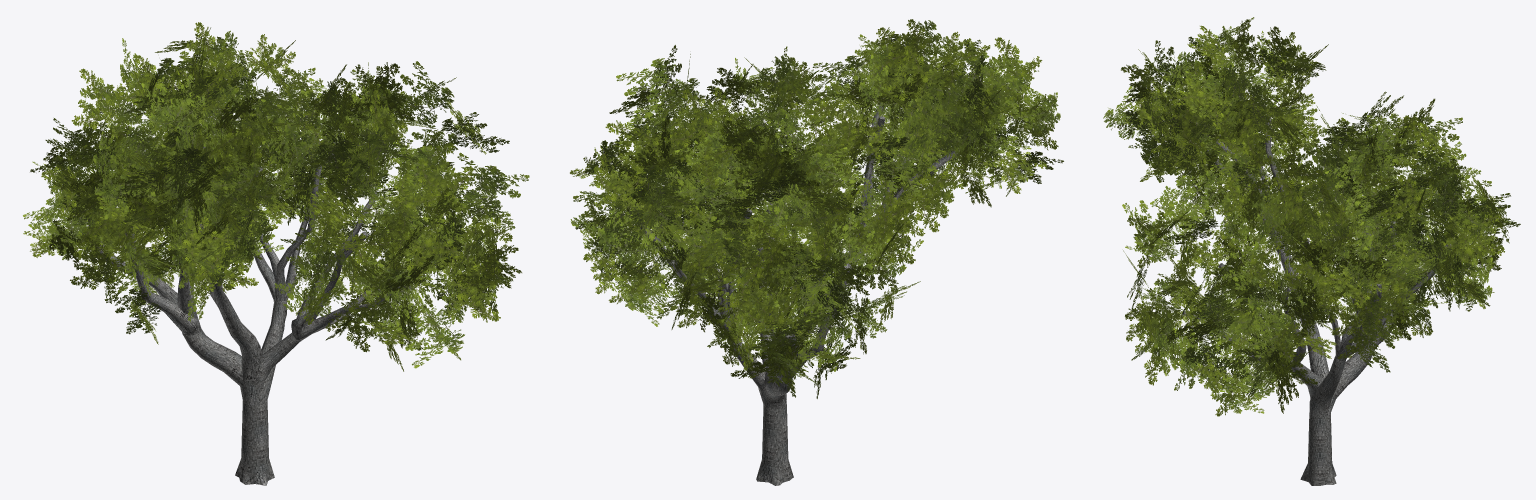
The model's file is White_Oak_Model_0.obj.
The picture shows the model from 3 angles, left to right: view 1: azimuth 30°, elevation 25°; view 2: azimuth 150°, elevation 25°; view 3: azimuth 270°, elevation 25°; orthographic projection. The views are drawn at different scales.
Parts seen in each view (by area): view 1: Foliage__leafcard, Bark; view 2: Foliage__leafcard, Bark; view 3: Foliage__leafcard, Bark.
Boxes of the visible parts, x1,y1,x2,y2 form: Foliage__leafcard: (23,22,529,371); Bark: (90,142,435,485); Foliage__leafcard: (570,19,1063,398); Bark: (634,104,957,485); Foliage__leafcard: (1103,17,1520,416); Bark: (1182,114,1451,485).
Bounding box in the file's own units: 18.27 × 19 × 17.3.
Materials: 2 (2 with a texture image).
